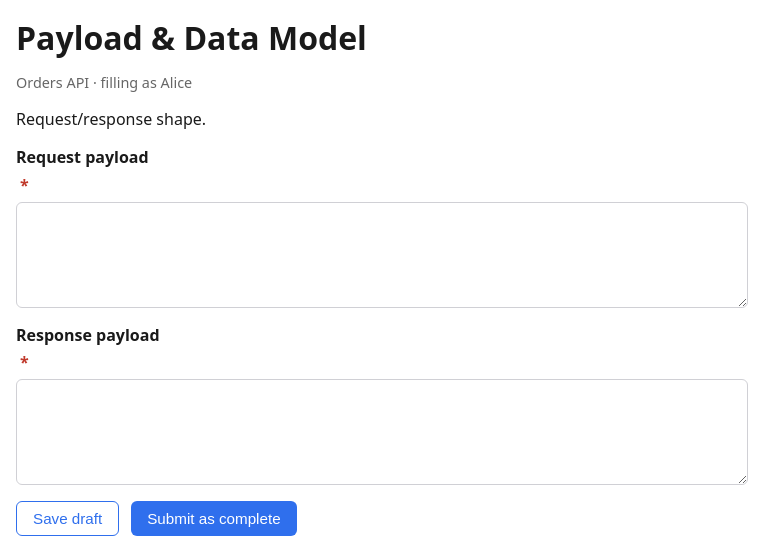
Scenario: resyncs to the completed view (instead of leaving a stale form open) on a 409 conflict
Expected: the heading "Payload & Data Model" is shown, [16,16,367,59]
Click the button "Submit as complete".
click(214, 518)  # box [131,501,297,536]
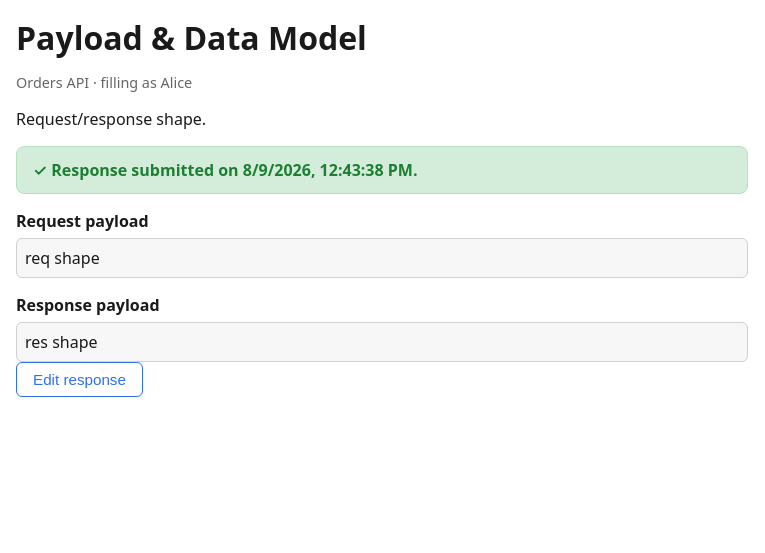
Expected: the text "✓ Response submitted on 8/9/2026, 12:43:38 PM." is shown, [16,146,748,194]
